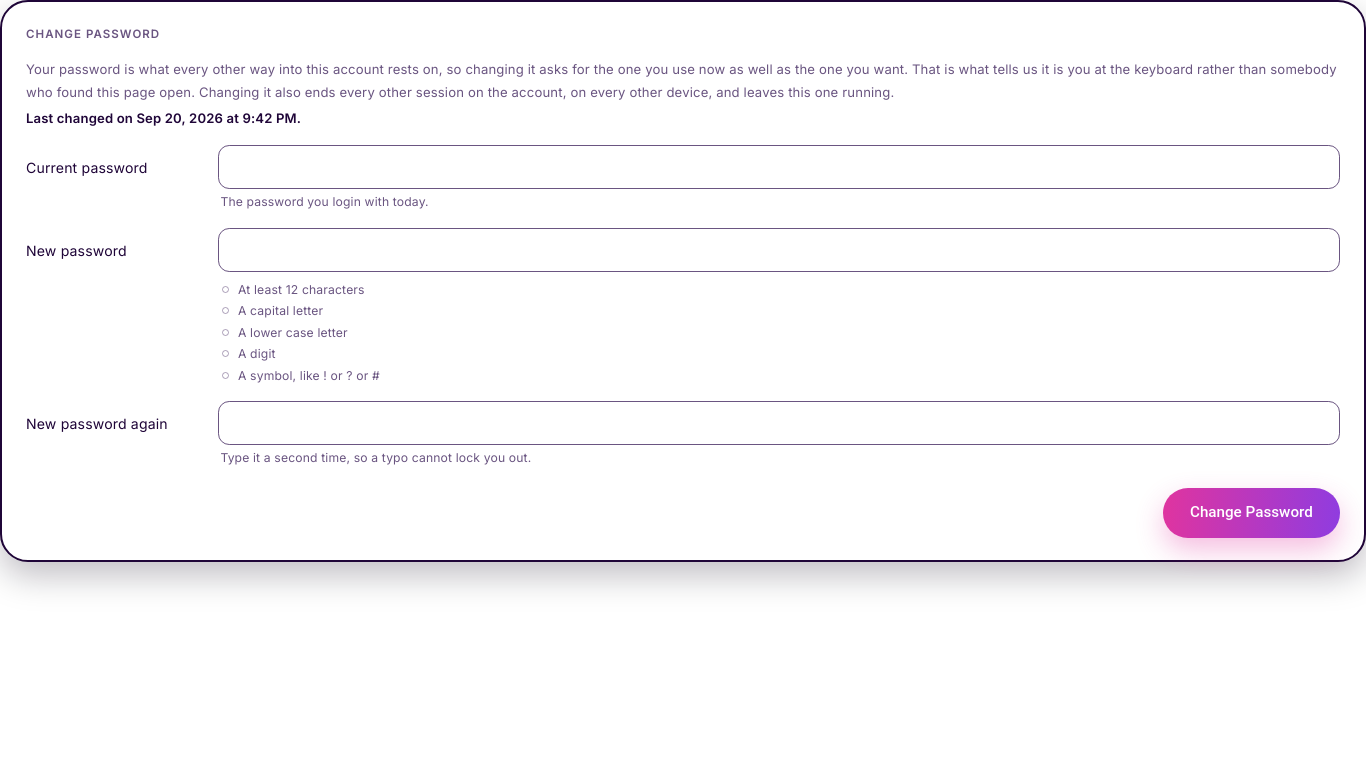
Scenario: what it refuses to send › refuses nothing in the box for the password they have now
This screenshot has width=1366, height=768.
Type "Trombone-42-Fig" into the password field labelled "New password" at (779, 250), box [218, 228, 1340, 272]
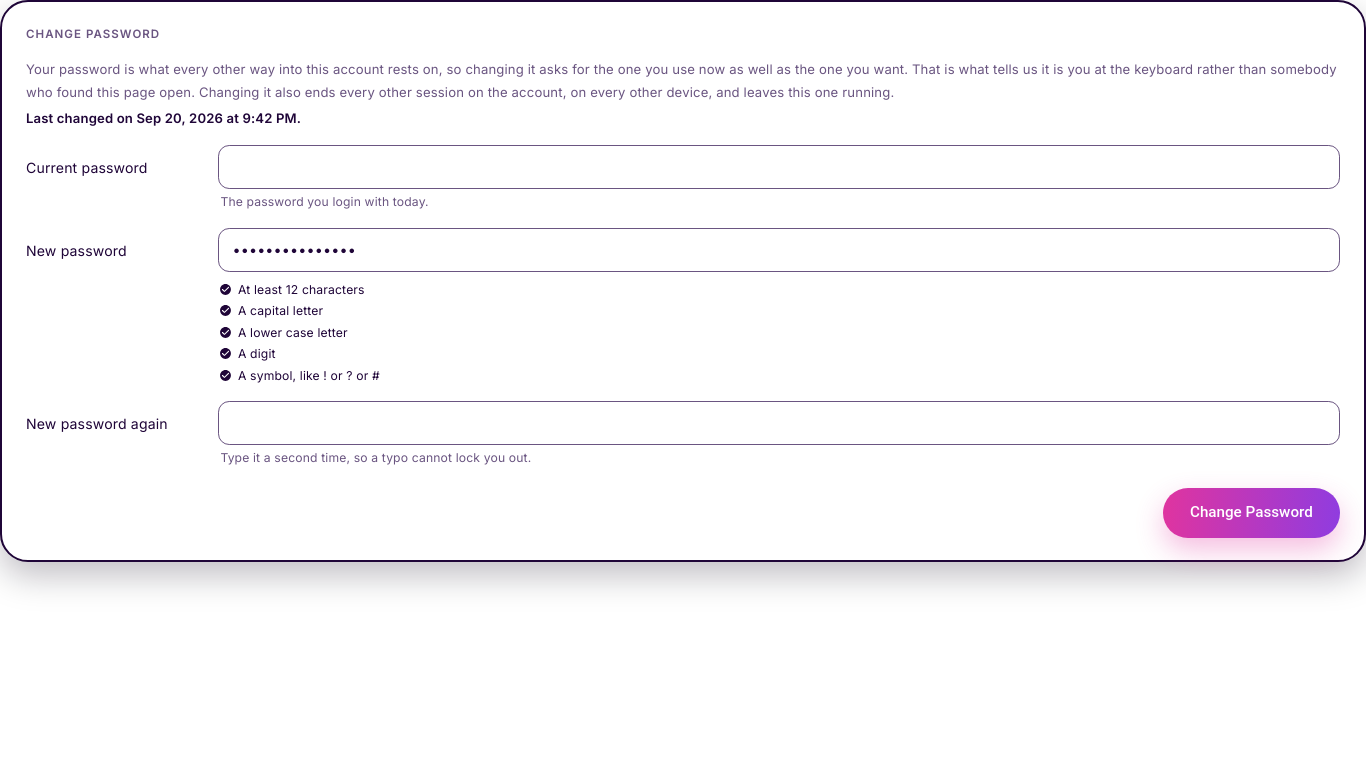
Type "Trombone-42-Fig" into the password field labelled "New password again" at (779, 423), box [218, 401, 1340, 445]
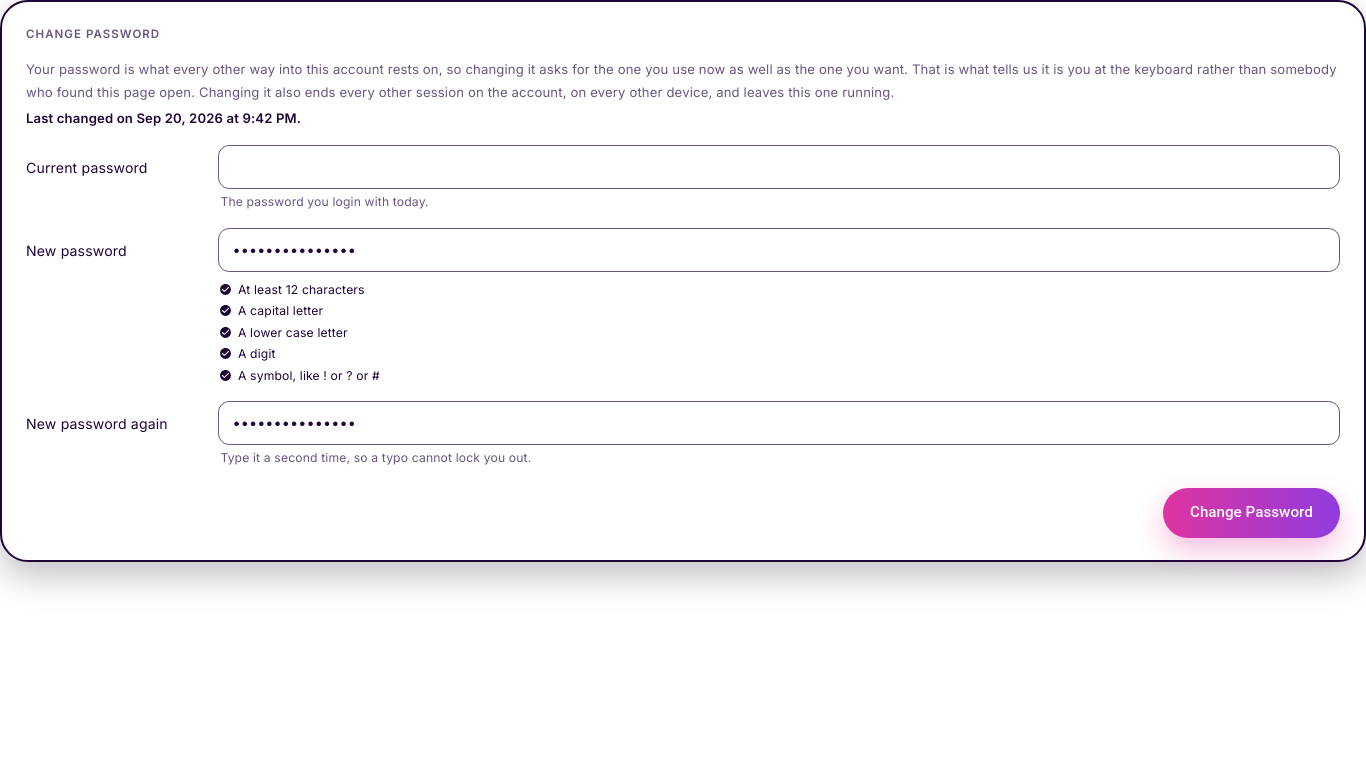
Click the button "Change Password" at (1251, 513), box [1163, 488, 1340, 538]
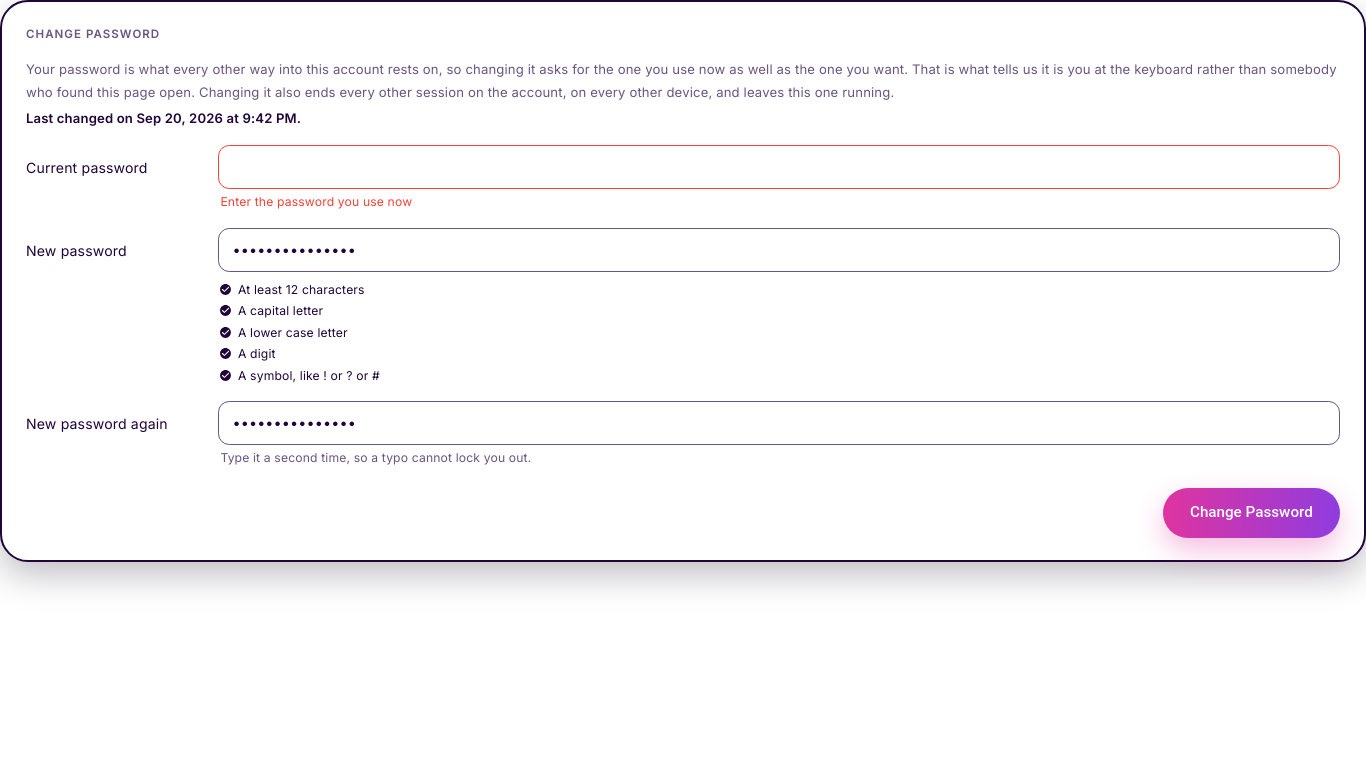
Result: the text "Enter the password you use now" is shown at [220, 194, 412, 209]
